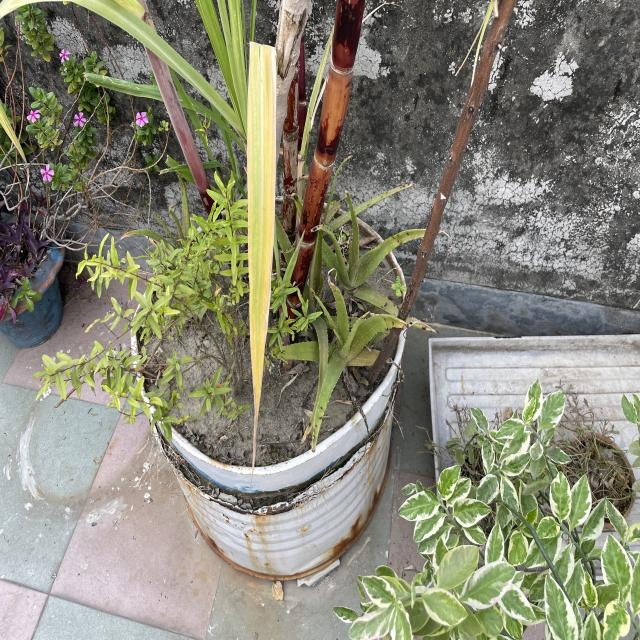Breeding Place: (134, 188, 400, 590)
